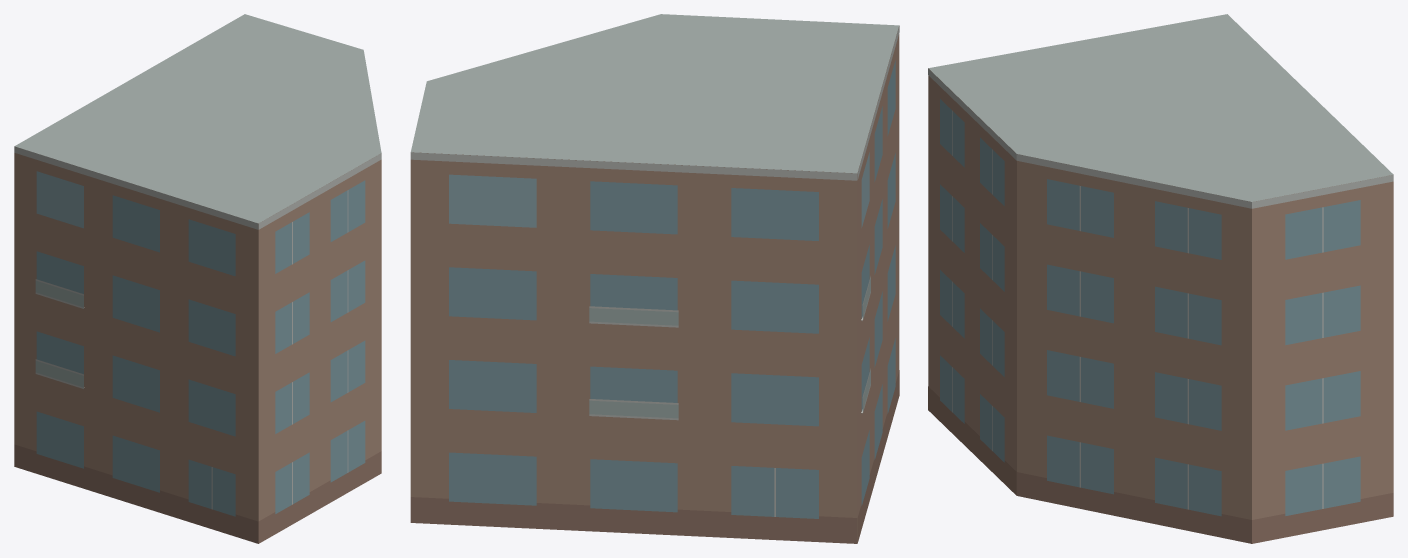
File: survey-upis-32933683.glb
3 renders of one model, left to right at view 1: azimuth 30°, elevation 25°; view 2: azimuth 150°, elevation 25°; view 3: azimuth 270°, elevation 25°, orthographic. The views are drawn at different scales.
Visible parts, largest first — view 1: survey-upis-32933683.tmp; view 2: survey-upis-32933683.tmp; view 3: survey-upis-32933683.tmp.
Boxes of the visible parts, x1,y1,x2,y2 form: survey-upis-32933683.tmp: (14,14,381,543); survey-upis-32933683.tmp: (410,14,899,543); survey-upis-32933683.tmp: (928,14,1393,543).
Bounding box in the file's own units: 14.39 × 12.2 × 15.06.
